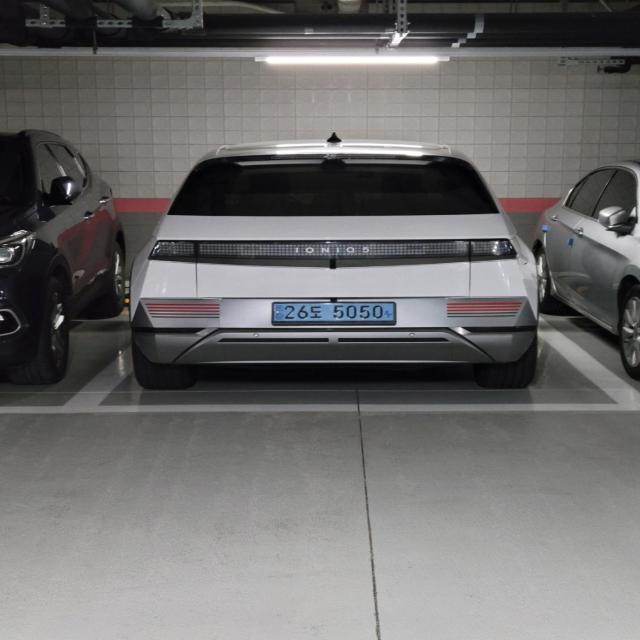EV_plate: (268, 298, 398, 329)
car: (120, 129, 550, 396)
